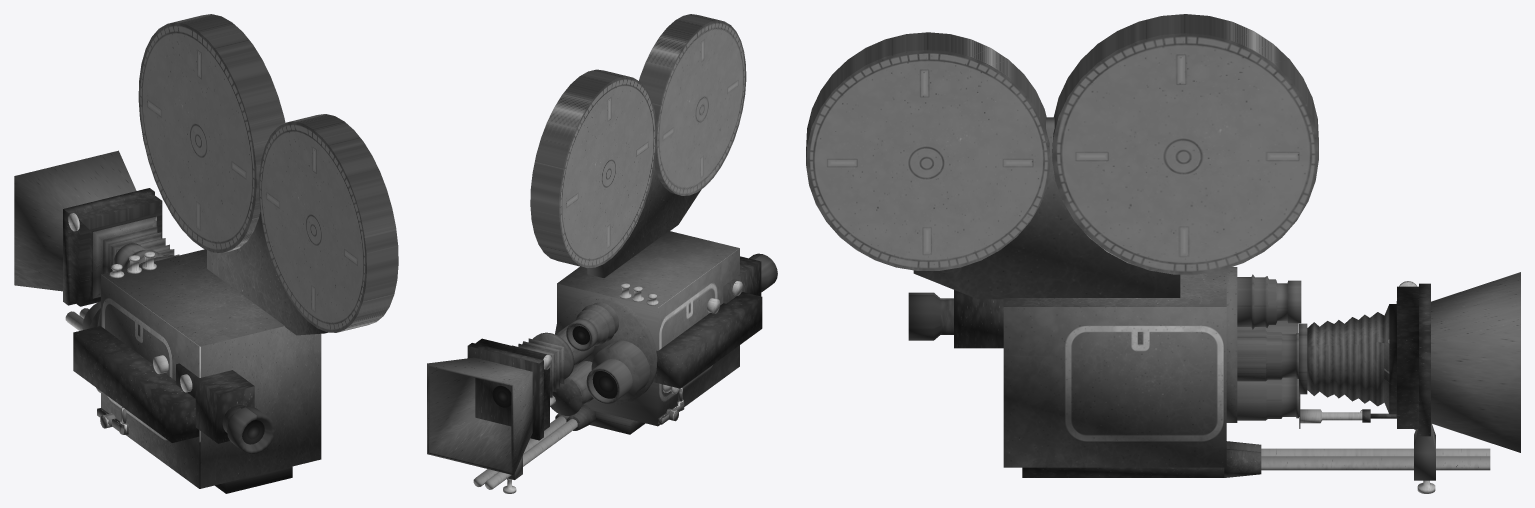
Rendered from camera.glb.
3 renders of one model, left to right at view 1: azimuth 30°, elevation 25°; view 2: azimuth 150°, elevation 25°; view 3: azimuth 270°, elevation 25°, orthographic. The views are drawn at different scales.
Parts seen in each view (by area): view 1: OldCamera; view 2: OldCamera; view 3: OldCamera.
Part boxes in pixels (x1=…): OldCamera: x1=14, y1=14, x2=398, y2=493; OldCamera: x1=427, y1=14, x2=777, y2=493; OldCamera: x1=806, y1=14, x2=1520, y2=493.
Size of the model in its own units: 0.0861 by 0.1955 by 0.2696.
Materials: 2 (2 with a texture image).
